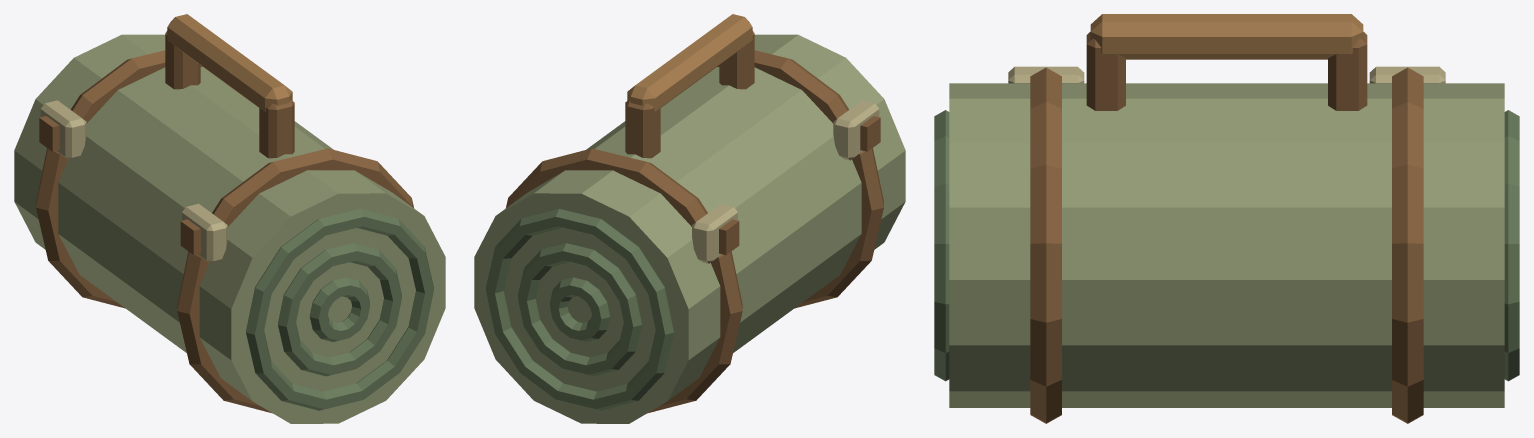
Rendered from SM_CampBedroll.fbx.
The picture shows the model from 3 angles, left to right: view 1: azimuth 30°, elevation 25°; view 2: azimuth 150°, elevation 25°; view 3: azimuth 270°, elevation 25°; orthographic projection. The views are drawn at different scales.
Visible parts, largest first — view 1: SM_CampBedroll; view 2: SM_CampBedroll; view 3: SM_CampBedroll.
Part boxes in pixels (x1=…): SM_CampBedroll: x1=14, y1=14, x2=445, y2=423; SM_CampBedroll: x1=474, y1=14, x2=905, y2=423; SM_CampBedroll: x1=934, y1=14, x2=1519, y2=423.
Size of the model in its own units: 0.696 by 1.12 by 0.8193.
